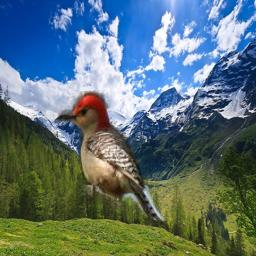Woodpecker: (56, 90, 166, 225)
